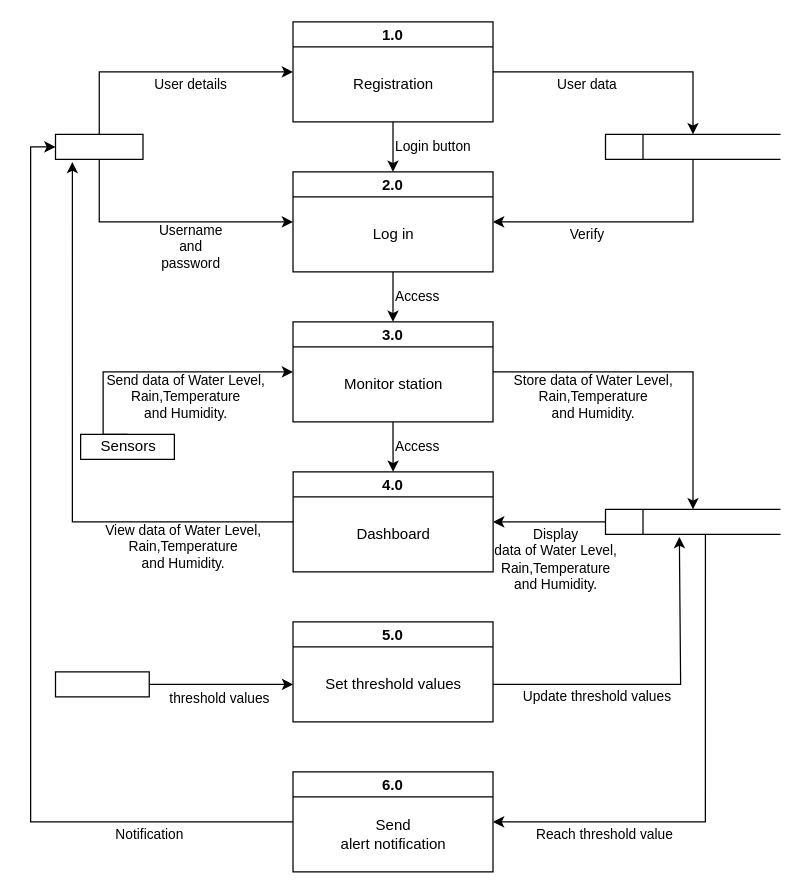
This 803x894 diagram has some shape labels left out. The shapes that lost their labels are listed below. From the top down, each one's centre as x and y in pixels, then its label:
At pixel 98 146: "User".
At pixel 692 146: "D1 User Database".
At pixel 692 521: "D2 Station Database".
At pixel 101 684: "Admin".
